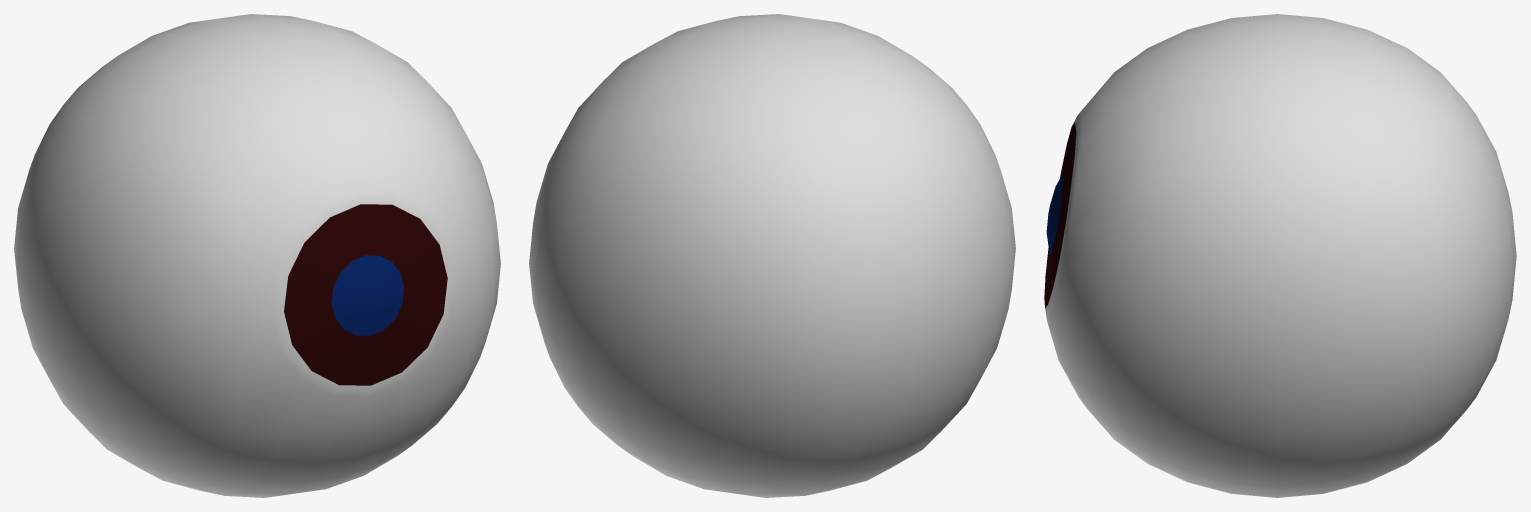
File: eye2.glb
3 renders of one model, left to right at view 1: azimuth 30°, elevation 25°; view 2: azimuth 150°, elevation 25°; view 3: azimuth 270°, elevation 25°, orthographic.
Visible parts, largest first — view 1: Cube.004; view 2: Cube.004; view 3: Cube.004.
Part boxes in pixels (bbox=[...]): Cube.004: bbox=[14, 14, 500, 497]; Cube.004: bbox=[529, 14, 1015, 497]; Cube.004: bbox=[1044, 14, 1516, 497].
Size of the model in its own units: 0.4975 by 0.4975 by 0.4911.
